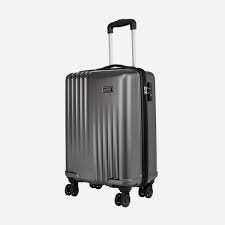suitcase: (62, 18, 157, 208)
